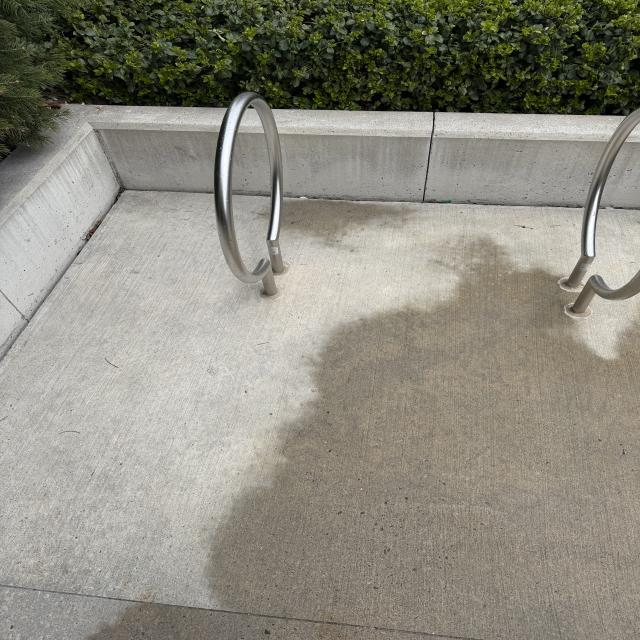Bicycle Rack: (558, 106, 640, 317), (211, 89, 288, 303)
